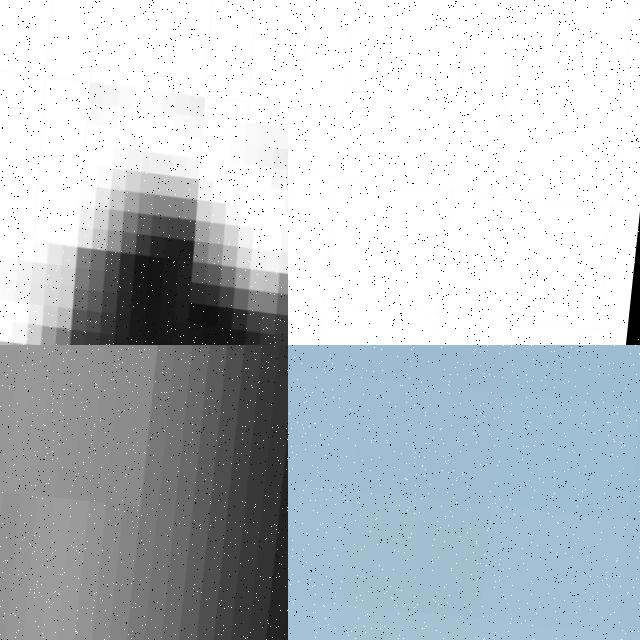drone: (0, 0, 288, 345)
